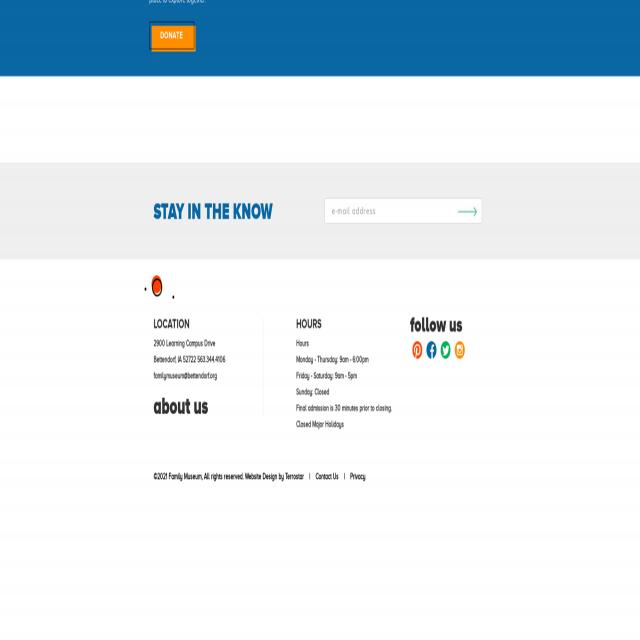button: (149, 22, 194, 49), (450, 198, 482, 224), (410, 336, 424, 361), (424, 336, 438, 361), (439, 336, 453, 361), (453, 336, 467, 361)
field: (324, 198, 450, 224)
